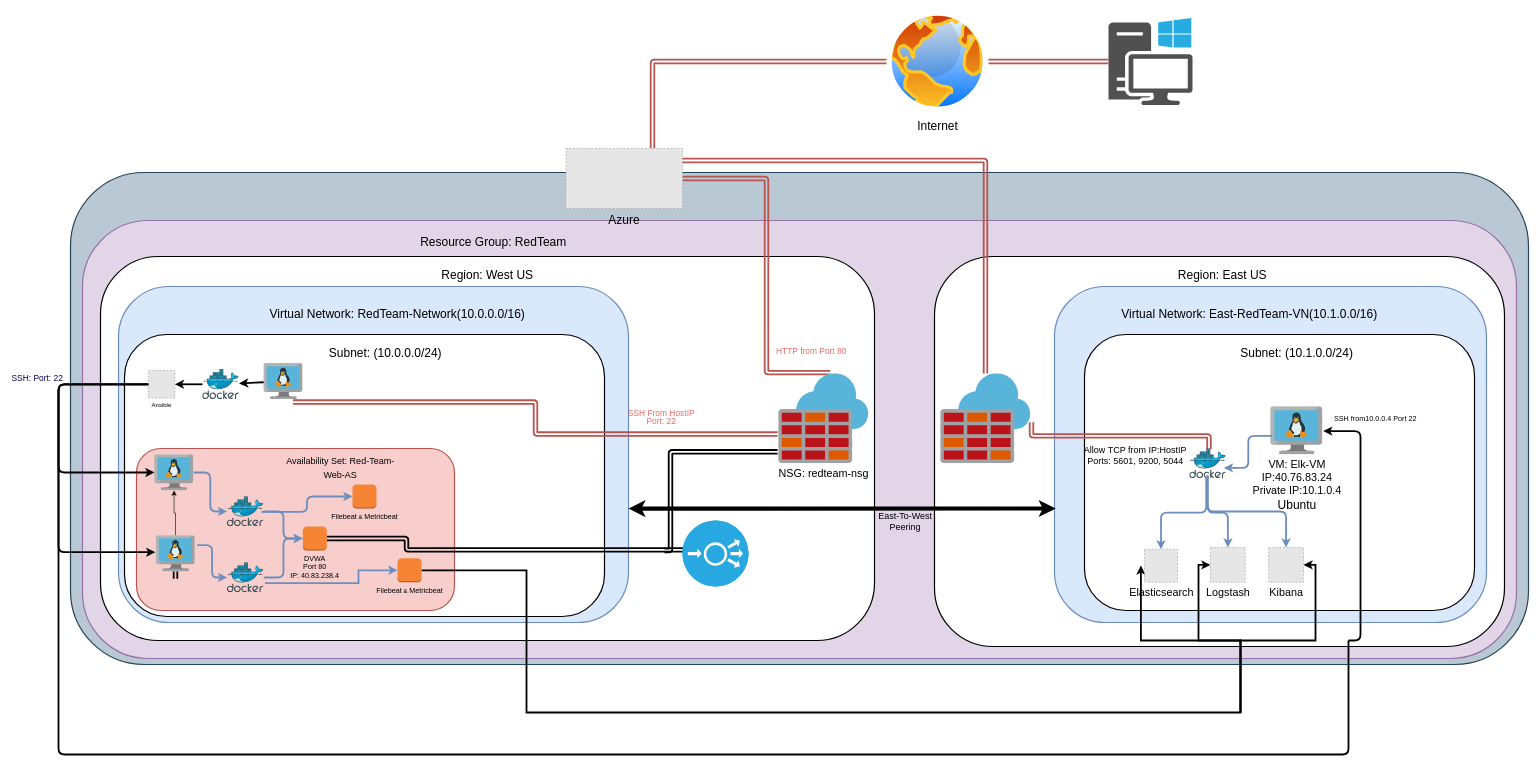
The diagram is 1539 pixels wide and 766 high, and some of its shapes have lost their labels. Grey dashed boxes stand in for pictures. The centre of each missing label's shape, as x and y in pixels:
Load Balancer: RedTeam-lb 40.83.238.4: [715,553]
NSG: elk-vm-nsg: [985,418]
User IP: HostIP: [1150,61]
VM: Jump-Box-Provisioner Private IP: 10.0.0.4 Public IP: 40.118.163.144 Ubuntu: [283,381]
VM: Web-1 10.0.0.5 Ubuntu: [175,553]
VM: Web-2 10.0.0.6 Ubuntu: [173,472]
